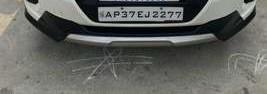AP37EJ2277: (97, 6, 182, 21)
